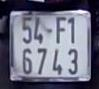1: (67, 15, 78, 46)
3: (67, 47, 80, 79)
4: (50, 48, 64, 79), (34, 15, 45, 45)
5: (21, 12, 33, 45)
6: (19, 46, 34, 75)
7: (36, 47, 47, 76)
F: (52, 15, 66, 46)
